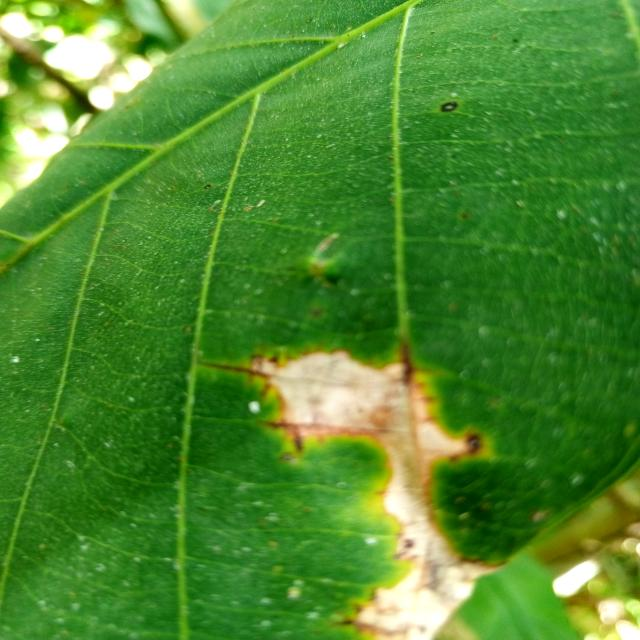Colletotrichum: (439, 100, 458, 113)
Corynespora: (197, 356, 278, 403), (262, 418, 307, 454)
Leaf-Blight: (260, 349, 502, 640)
